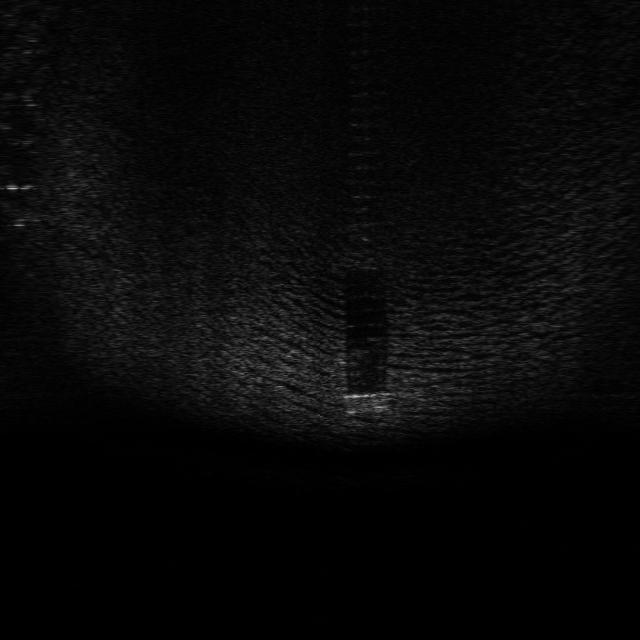cube: (342, 391, 396, 416)
